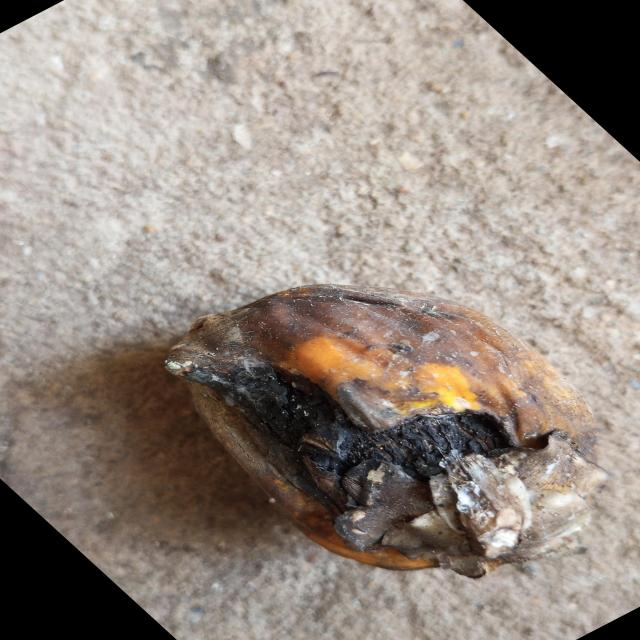damaged: (165, 285, 607, 579)
